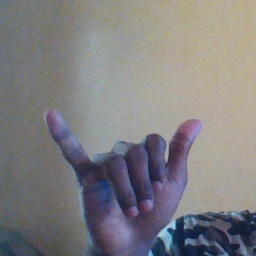J: (44, 103, 207, 240)
